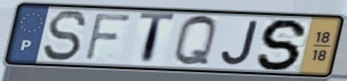F: (83, 11, 135, 62)
J: (218, 19, 261, 67)
Q: (172, 14, 219, 69)
S: (254, 17, 311, 72), (41, 9, 89, 63)
T: (137, 11, 178, 68)
